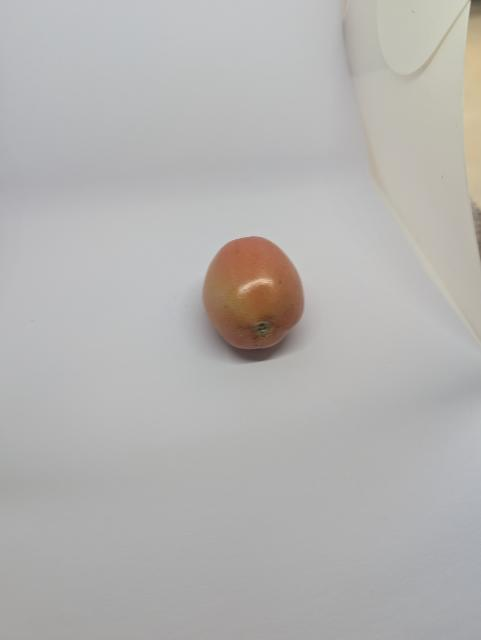turning: (198, 234, 310, 353)
